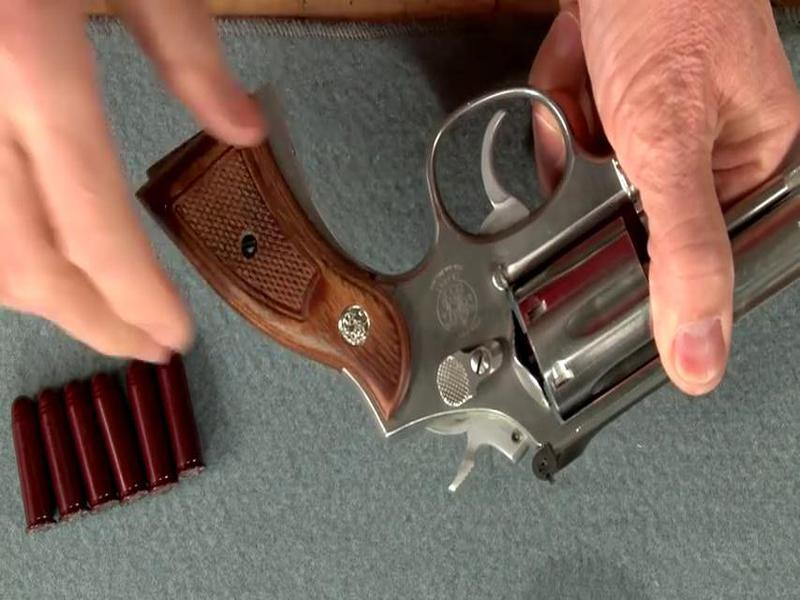Revolver: (94, 77, 792, 509)
